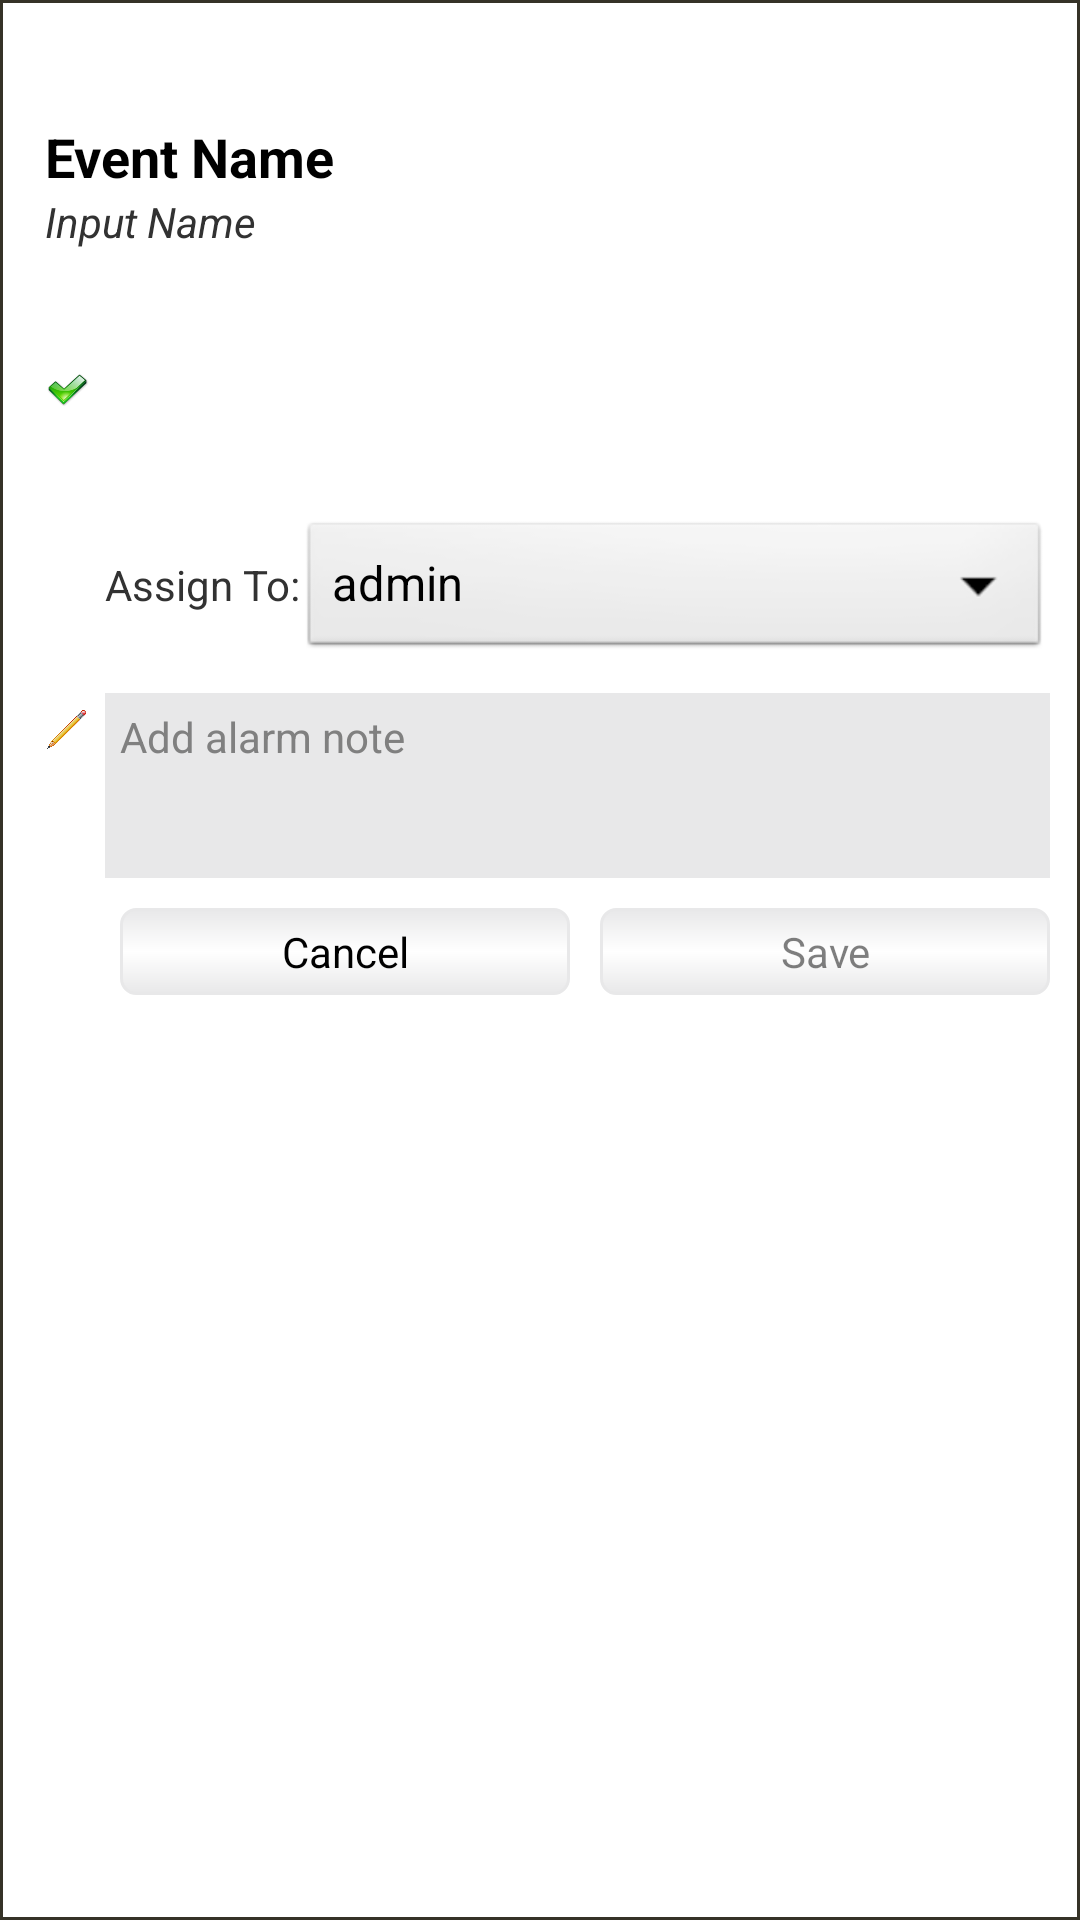

Named icons in this screenshot (1080w x 1920h) and their centers, point (x, y):
pencil: point (66, 729)
